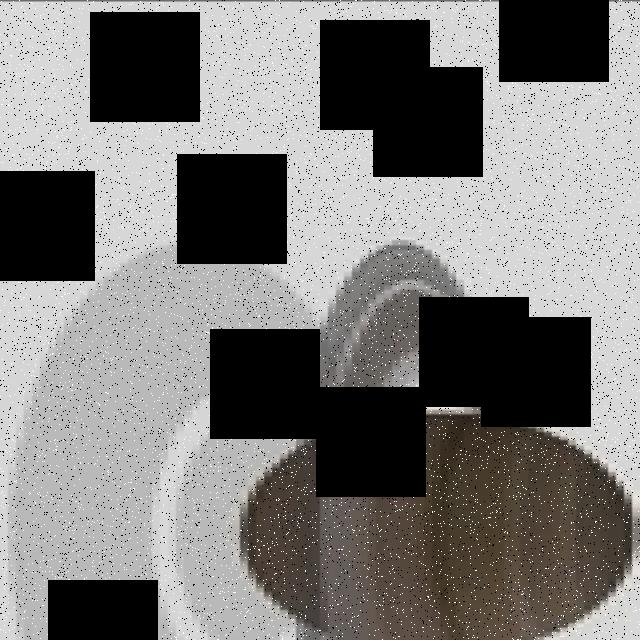Saturn: (232, 240, 640, 640)
